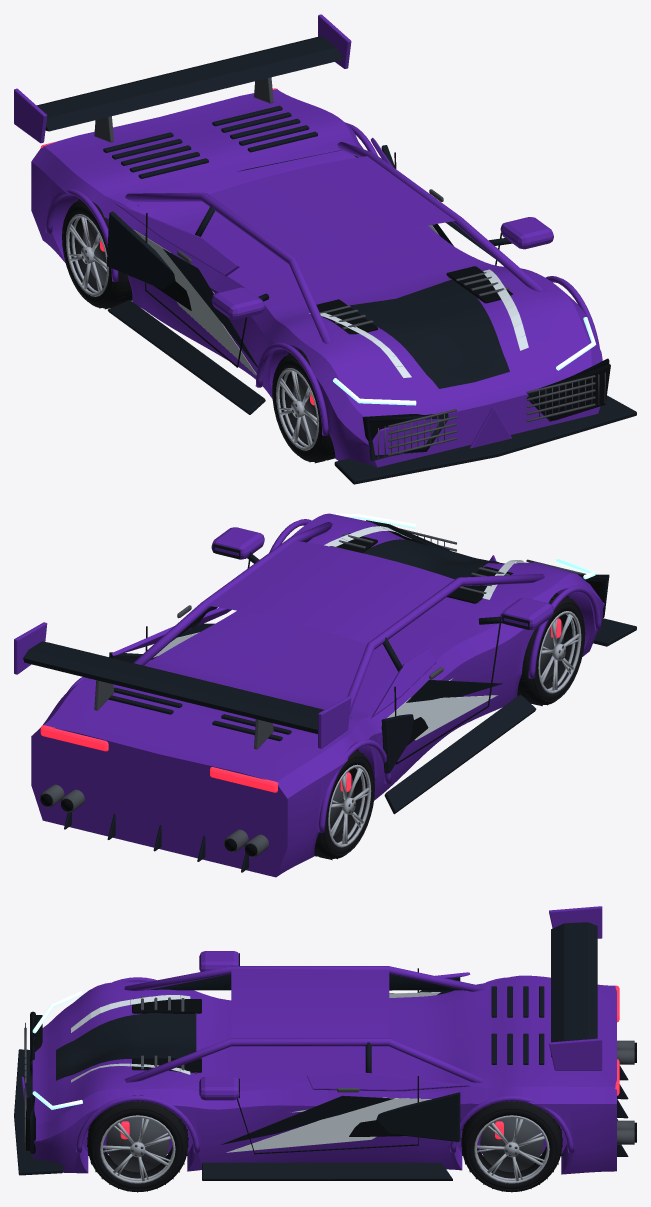
File: phantom-rs.glb
The picture shows the model from 3 angles, top to bottom: view 1: azimuth 30°, elevation 25°; view 2: azimuth 150°, elevation 25°; view 3: azimuth 270°, elevation 25°; orthographic projection. The views are drawn at different scales.
Visible parts, largest first — view 1: body, wheel_rl_spin_mesh, wheel_fl_spin_mesh; view 2: body, wheel_fl_spin_mesh, wheel_rl_spin_mesh; view 3: body, wheel_fr_spin_mesh, wheel_rr_spin_mesh.
Part boxes in pixels (x1=…): body: x1=14, y1=14, x2=636, y2=484; wheel_rl_spin_mesh: x1=62, y1=199, x2=132, y2=309; wheel_fl_spin_mesh: x1=272, y1=350, x2=335, y2=463; body: x1=14, y1=513, x2=636, y2=877; wheel_fl_spin_mesh: x1=517, y1=593, x2=585, y2=706; wheel_rl_spin_mesh: x1=314, y1=749, x2=374, y2=860; body: x1=14, y1=906, x2=636, y2=1180; wheel_fr_spin_mesh: x1=87, y1=1095, x2=188, y2=1192; wheel_rr_spin_mesh: x1=461, y1=1101, x2=562, y2=1192.
Size of the model in its own units: 2.8 by 1.53 by 5.22.
